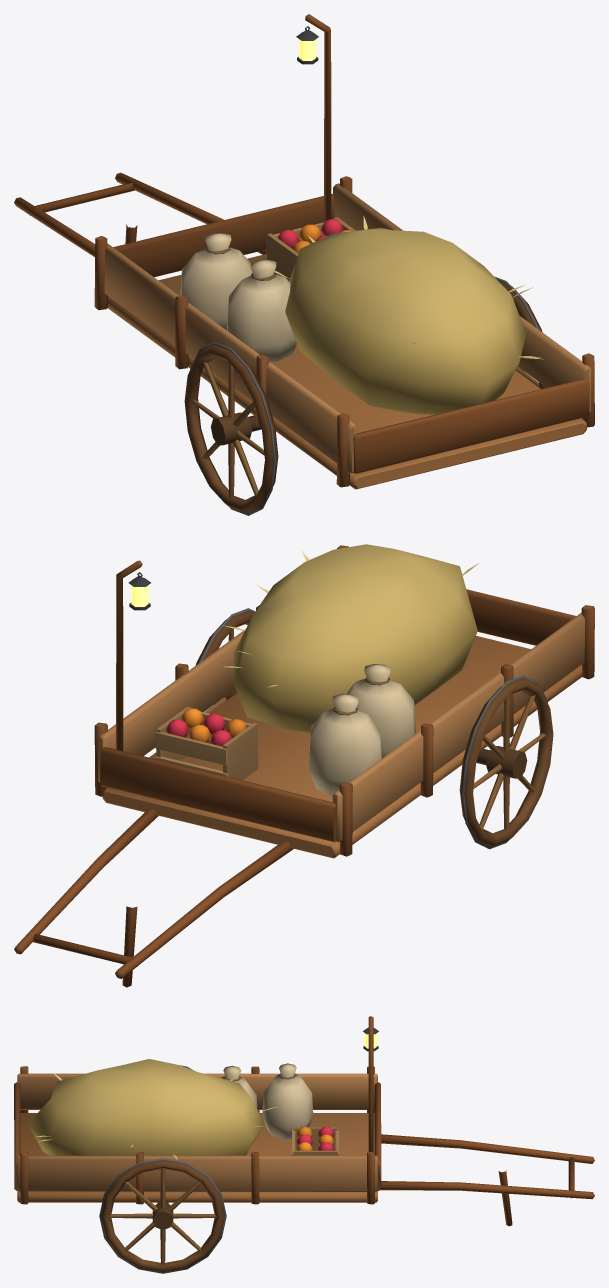
The picture shows the model from 3 angles, top to bottom: view 1: azimuth 30°, elevation 25°; view 2: azimuth 150°, elevation 25°; view 3: azimuth 270°, elevation 25°; orthographic projection. The views are drawn at different scales.
Visible parts, largest first — view 1: cart_town; view 2: cart_town; view 3: cart_town.
Part boxes in pixels (box(x1,y1,x2,y2)): cart_town: box(14, 14, 594, 515); cart_town: box(14, 544, 594, 987); cart_town: box(14, 1016, 594, 1273).
Size of the model in its own units: 1.8 by 1.91 by 4.19.
